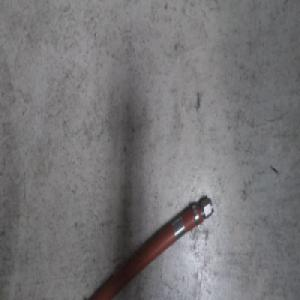Hose: (67, 193, 214, 300)
